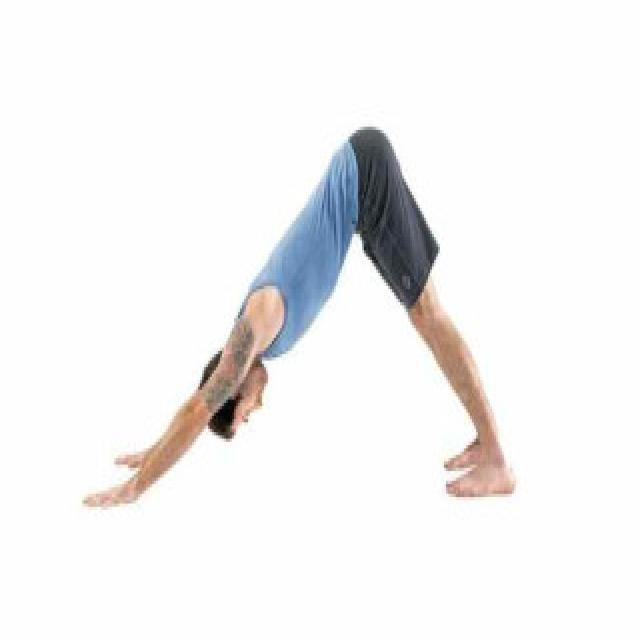yoga-pose downward: (82, 124, 518, 512)
